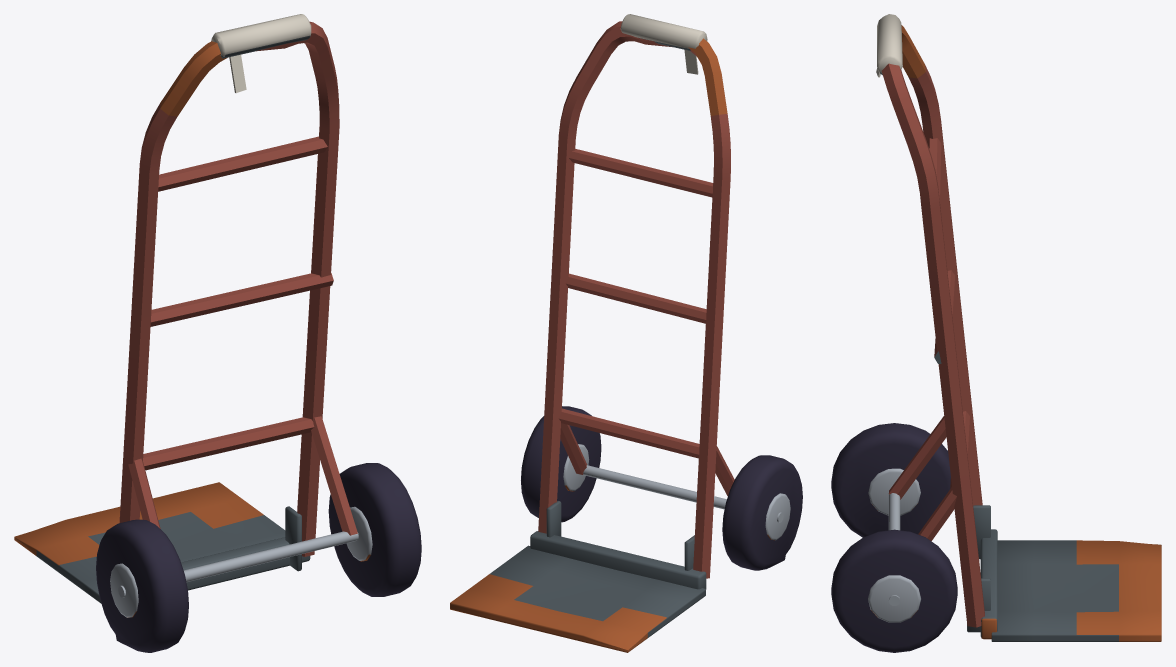
The model's file is hand_truck.glb.
The picture shows the model from 3 angles, left to right: view 1: azimuth 30°, elevation 25°; view 2: azimuth 150°, elevation 25°; view 3: azimuth 270°, elevation 25°; orthographic projection. The views are drawn at different scales.
Visible parts, largest first — view 1: HandTruck; view 2: HandTruck; view 3: HandTruck.
Part boxes in pixels (<box>): HandTruck: <box>14,14,421,652</box>; HandTruck: <box>450,14,802,652</box>; HandTruck: <box>831,14,1161,652</box>.
Size of the model in its own units: 0.6252 by 1.28 by 0.68.
